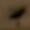cockroach: (8, 7, 26, 21)
